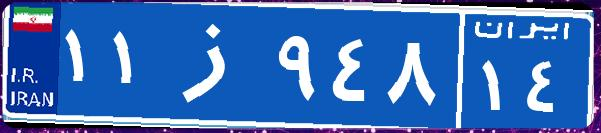1: (57, 26, 110, 107), (475, 38, 525, 113), (110, 28, 158, 105)
4: (330, 28, 385, 110), (525, 38, 570, 115)
8: (385, 28, 445, 110)
9: (273, 28, 330, 110)
ز: (158, 15, 273, 115)
